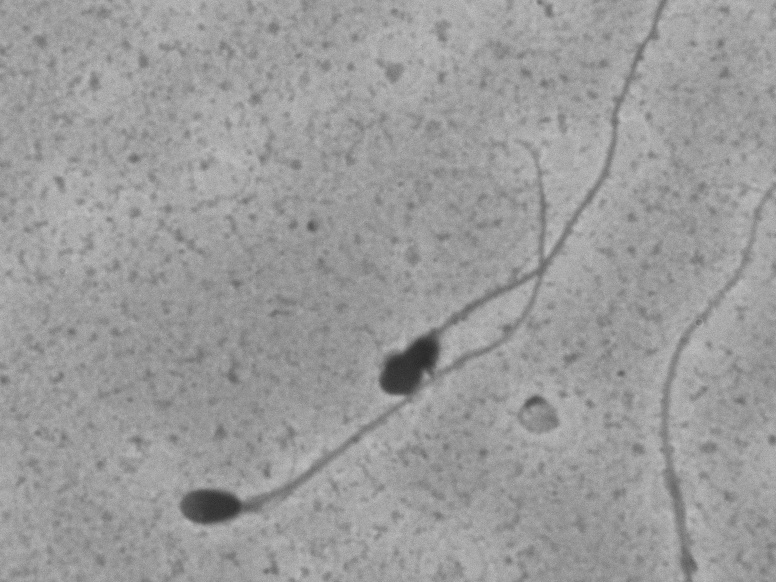Normal: (146, 110, 554, 542)
